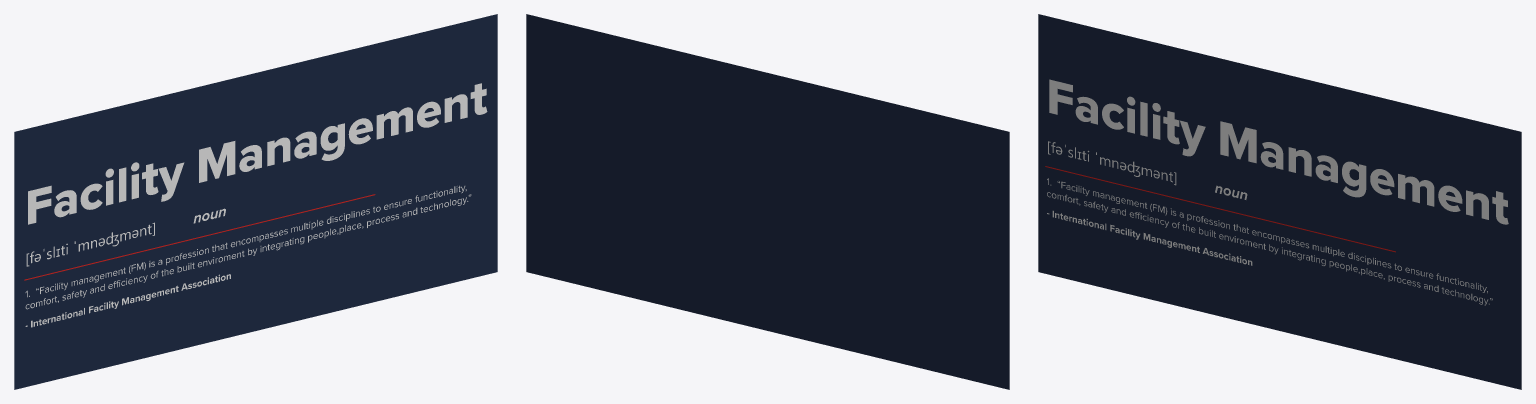
File: 3D-animation-2.glb
The picture shows the model from 3 angles, left to right: view 1: azimuth 30°, elevation 25°; view 2: azimuth 150°, elevation 25°; view 3: azimuth 330°, elevation 25°; orthographic projection.
Visible parts, largest first — view 1: Curve, Curve.534, Curve.540, Curve.538, Curve.001, Curve.526, Curve.533, Curve.537, Curve.527, Curve.536, Curve.542, Curve.535 (+2 smaller); view 2: Curve; view 3: Curve, Curve.534, Curve.540, Curve.538, Curve.001, Curve.526, Curve.533, Curve.535, Curve.537, Curve.541, Curve.536, Curve.539 (+2 smaller).
Boxes of the visible parts, x1=… form: Curve: x1=14, y1=14, x2=497, y2=389; Curve.534: x1=199, y1=141, x2=235, y2=182; Curve.540: x1=376, y1=107, x2=412, y2=139; Curve.538: x1=320, y1=123, x2=344, y2=160; Curve.001: x1=24, y1=194, x2=375, y2=280; Curve.526: x1=28, y1=185, x2=51, y2=224; Curve.533: x1=158, y1=162, x2=184, y2=201; Curve.537: x1=294, y1=131, x2=316, y2=158; Curve.527: x1=54, y1=190, x2=76, y2=217; Curve.536: x1=267, y1=137, x2=290, y2=166; Curve.542: x1=444, y1=94, x2=467, y2=122; Curve.535: x1=239, y1=145, x2=261, y2=171; Curve: x1=526, y1=14, x2=1009, y2=389; Curve: x1=1038, y1=14, x2=1521, y2=389; Curve.534: x1=1220, y1=121, x2=1256, y2=163; Curve.540: x1=1398, y1=174, x2=1434, y2=206; Curve.538: x1=1342, y1=161, x2=1366, y2=197; Curve.001: x1=1045, y1=166, x2=1395, y2=252; Curve.526: x1=1049, y1=79, x2=1072, y2=114; Curve.533: x1=1180, y1=120, x2=1205, y2=156; Curve.535: x1=1260, y1=142, x2=1283, y2=169; Curve.537: x1=1315, y1=155, x2=1337, y2=182; Curve.541: x1=1438, y1=185, x2=1462, y2=211; Curve.536: x1=1288, y1=147, x2=1311, y2=176; Curve.539: x1=1370, y1=169, x2=1394, y2=195.
Bounding box in the file's own units: 0.2848 × 0.1453 × 0.00162.
